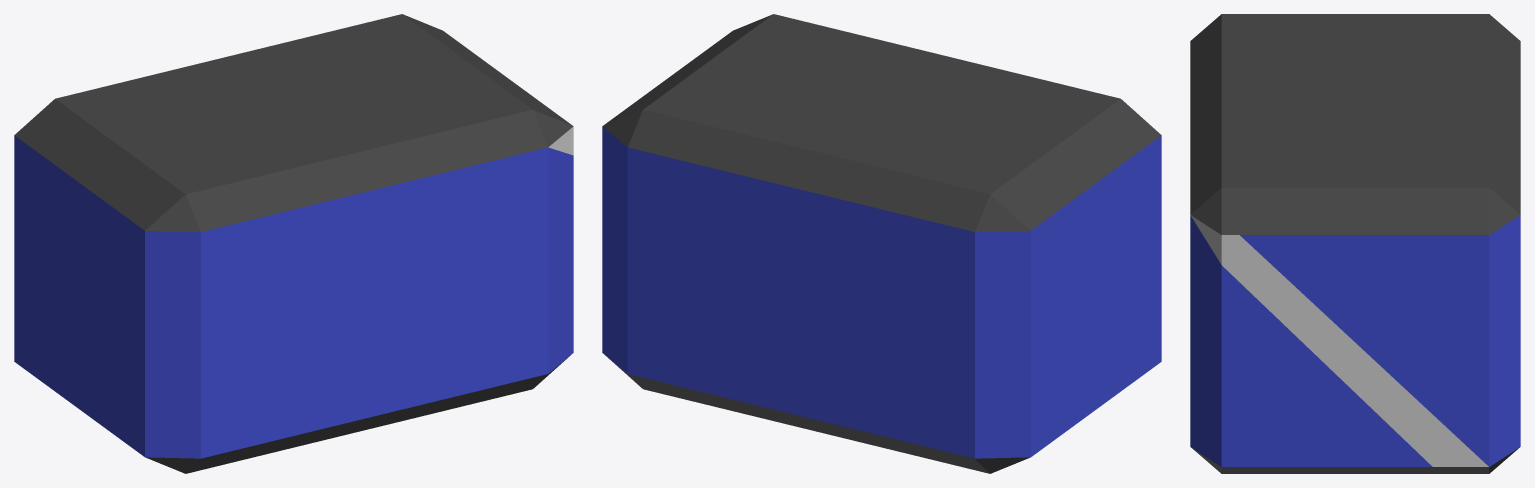
The model's file is SmallCase4.fbx.
3 views of the same model, side by side, from view 1: azimuth 30°, elevation 25°; view 2: azimuth 150°, elevation 25°; view 3: azimuth 270°, elevation 25° (orthographic). The views are drawn at different scales.
Visible parts, largest first — view 1: Cube.042; view 2: Cube.042; view 3: Cube.042.
Boxes of the visible parts, box(x1,y1,x2,y2) form: Cube.042: box(14, 14, 573, 473); Cube.042: box(602, 14, 1161, 473); Cube.042: box(1190, 14, 1520, 473).
Bounding box in the file's own units: 72.28 × 45.05 × 47.11.
